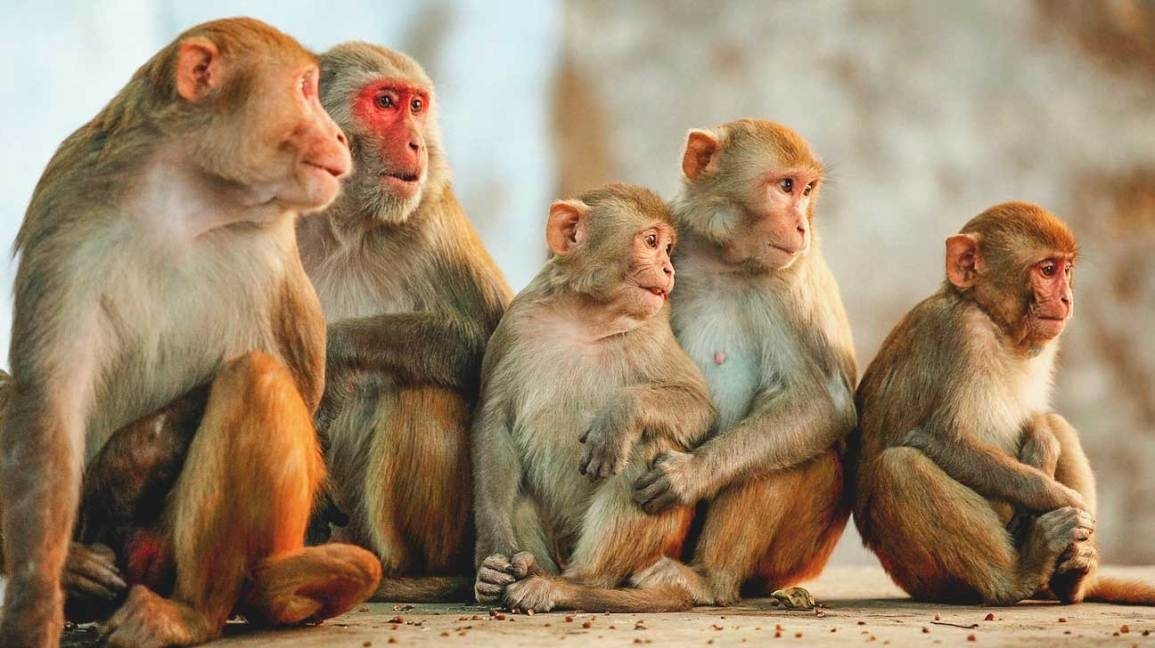monkey: (1, 4, 365, 648), (290, 26, 538, 618), (631, 114, 874, 624), (844, 196, 1108, 615), (469, 165, 711, 609)
